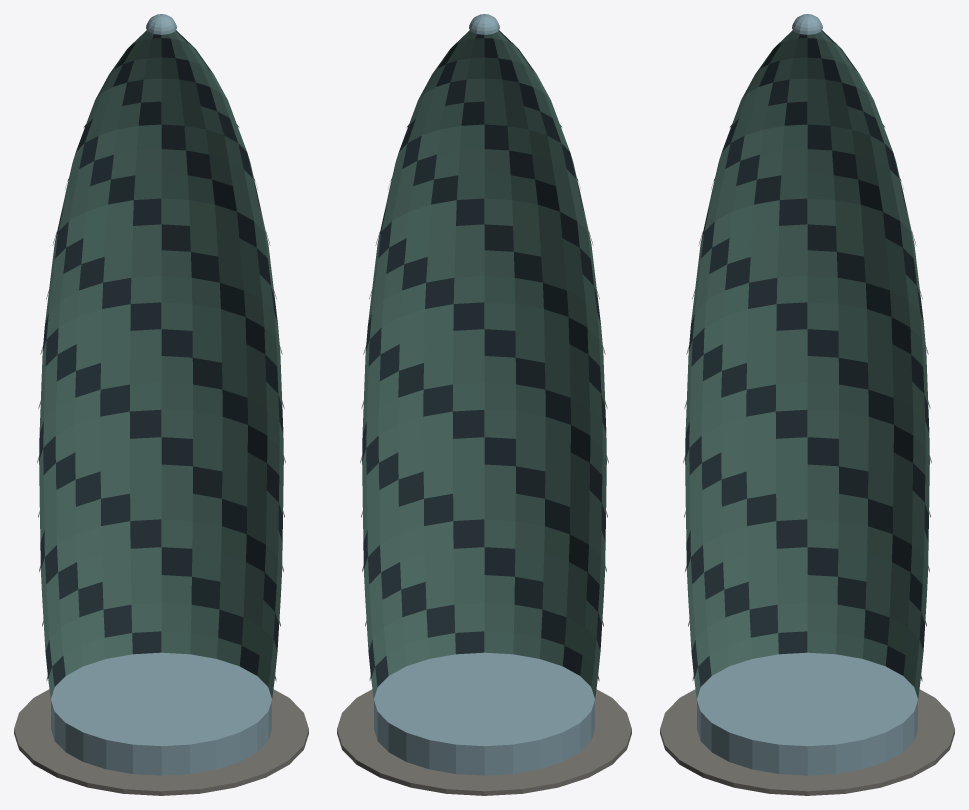
The model's file is gherkin.glb.
3 renders of one model, left to right at view 1: azimuth 30°, elevation 25°; view 2: azimuth 150°, elevation 25°; view 3: azimuth 270°, elevation 25°, orthographic.
Parts seen in each view (by area): view 1: gherkin; view 2: gherkin; view 3: gherkin.
Boxes of the visible parts, <box> form: gherkin: <box>14,14,308,795</box>; gherkin: <box>337,14,631,795</box>; gherkin: <box>660,14,954,795</box>.
Bounding box in the file's own units: 68 × 183 × 68.
